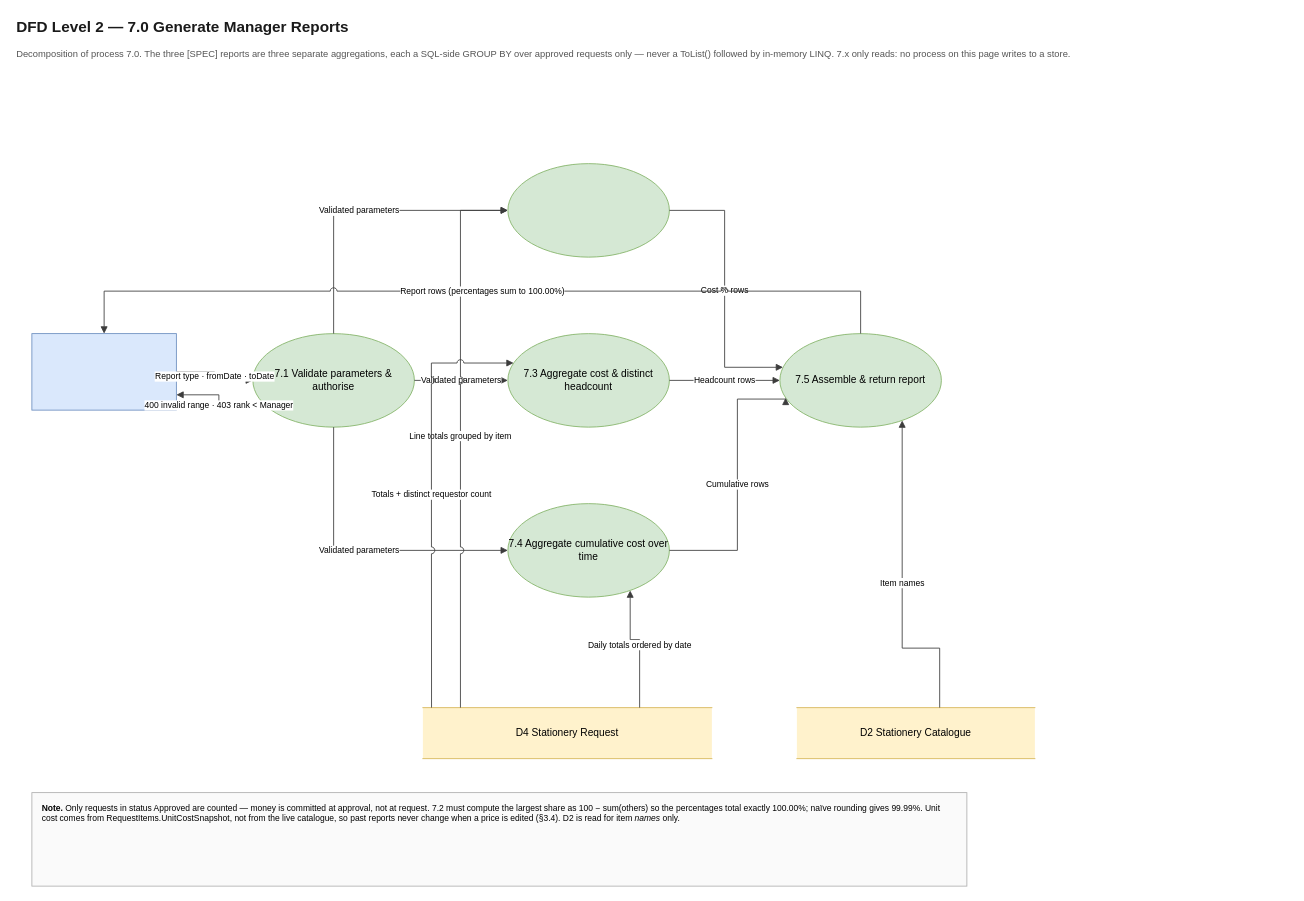
This 1304x901 diagram has some shape labels left out. The shapes that lost their labels are listed below. From the top down, each one's centre as x and y in pixels, then its label:
(x=588, y=210): 7.2 Aggregate cost per item (% of total)
(x=103, y=371): Manager
